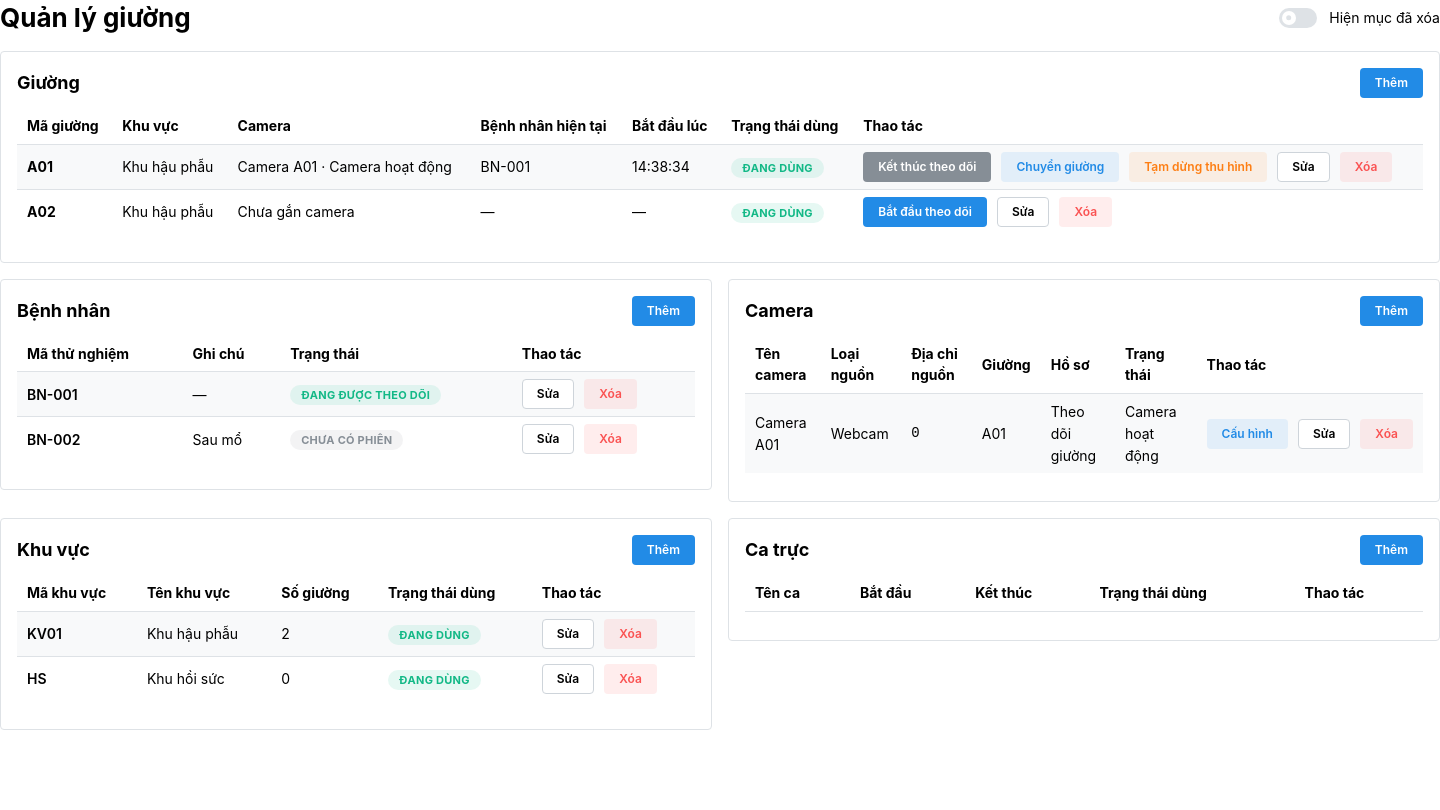
Scenario: ManagementPage › delete asks for confirmation
Later steps or results of the test are not shown.
Click the button "Xóa" in the row of "A02" at (1086, 212), box [1060,197,1112,227]
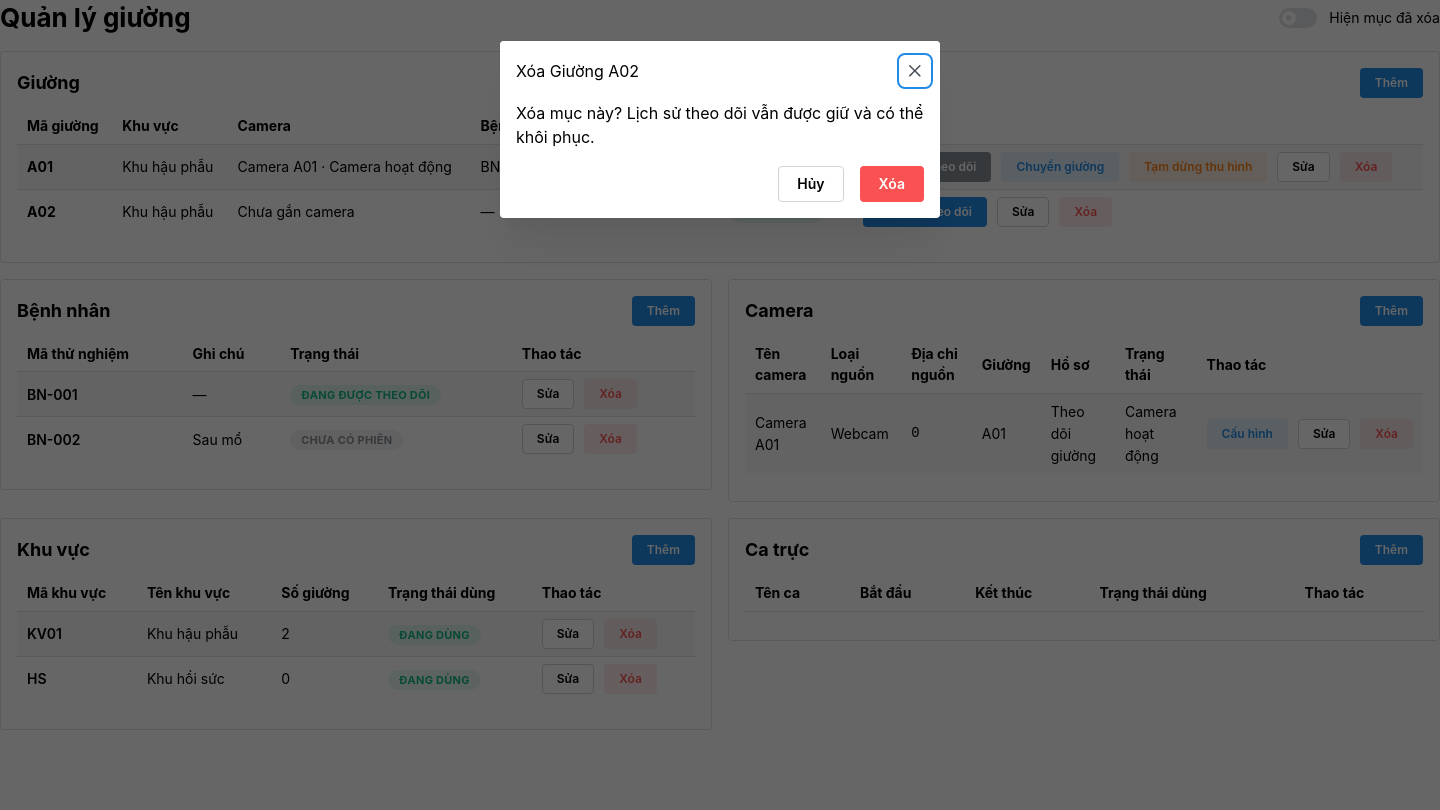
Check: the text "Xóa mục này? Lịch sử theo dõi vẫn được giữ và có thể khôi phục." is shown, box [516,100,924,150]
